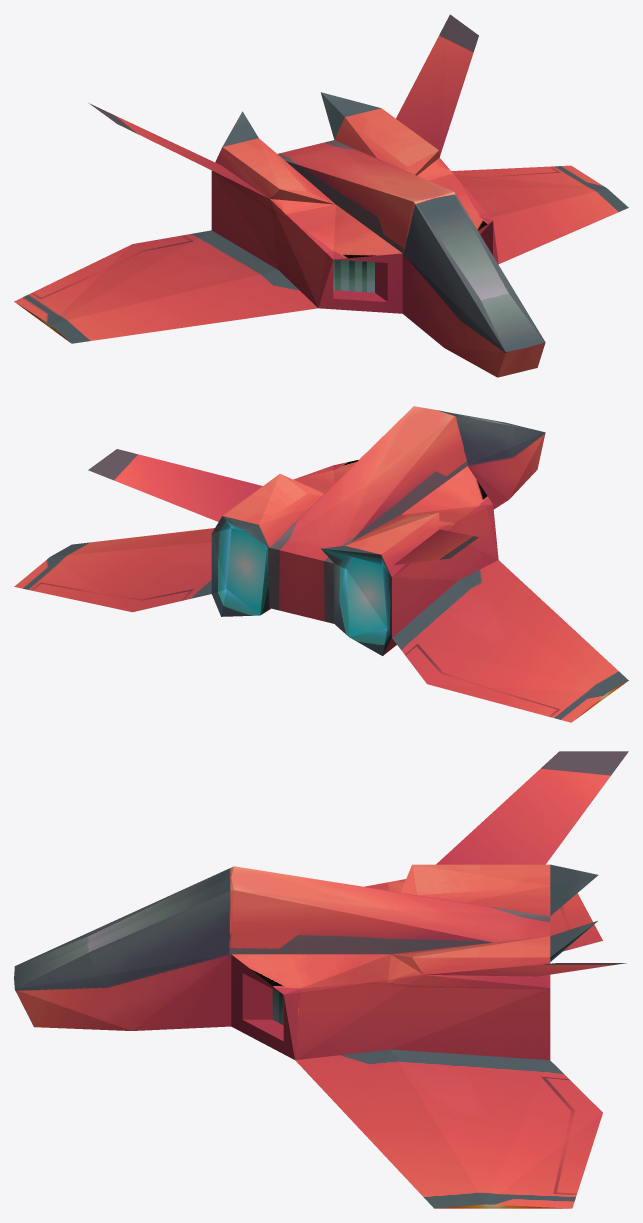
The picture shows the model from 3 angles, top to bottom: view 1: azimuth 30°, elevation 25°; view 2: azimuth 150°, elevation 25°; view 3: azimuth 270°, elevation 25°; orthographic projection. The views are drawn at different scales.
Visible parts, largest first — view 1: ship0; view 2: ship0; view 3: ship0.
Part boxes in pixels (bbox=[...]): ship0: bbox=[14, 14, 628, 377]; ship0: bbox=[14, 406, 628, 722]; ship0: bbox=[14, 751, 628, 1208].
Size of the model in its own units: 4.83 by 3.86 by 1.31.
